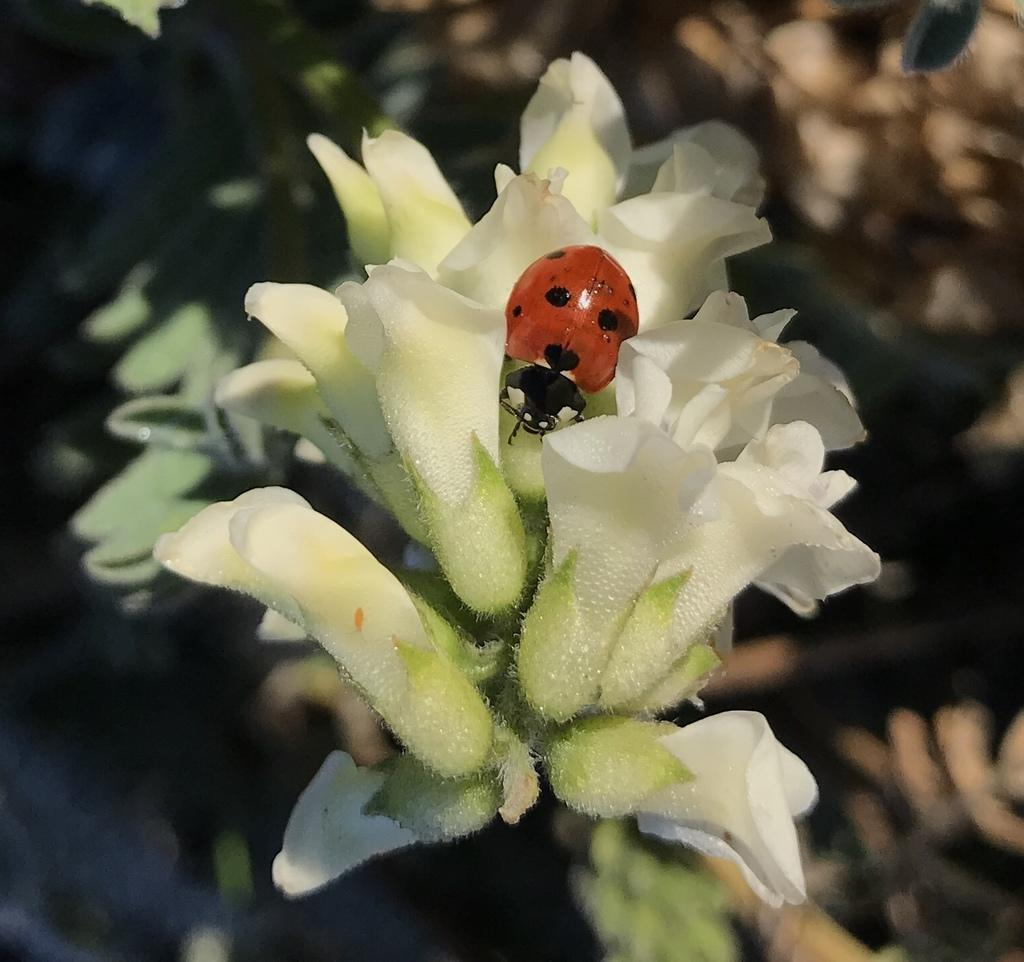ladybug: (499, 244, 646, 449)
